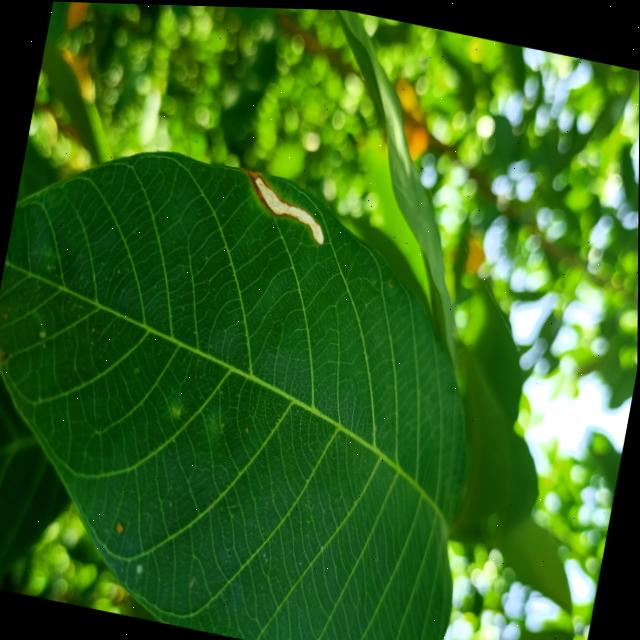Leaf-Blight: (244, 173, 332, 242)
